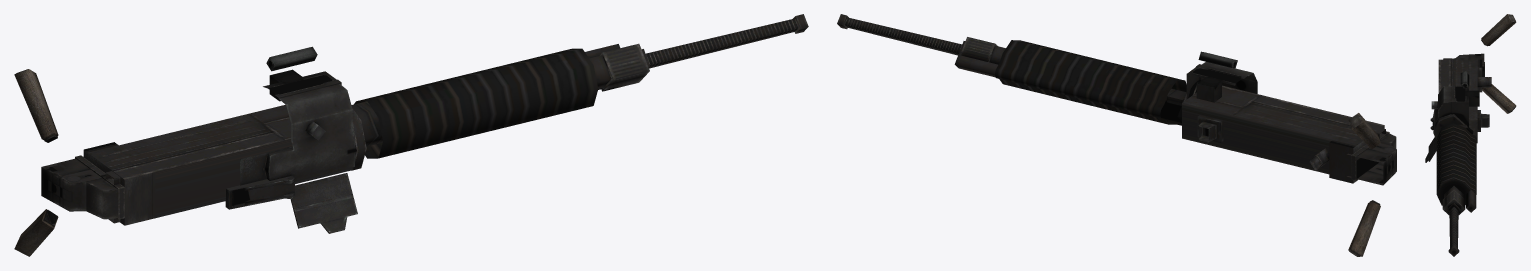
The model's file is weapon_jap_mg_type92_notripod_LOD31.obj.
The picture shows the model from 3 angles, left to right: view 1: azimuth 30°, elevation 25°; view 2: azimuth 150°, elevation 25°; view 3: azimuth 270°, elevation 25°; orthographic projection. The views are drawn at different scales.
Parts seen in each view (by area): view 1: TomGroup_0; view 2: TomGroup_0; view 3: TomGroup_0.
Boxes of the visible parts, <box> form: TomGroup_0: <box>14,14,808,256</box>; TomGroup_0: <box>837,14,1396,256</box>; TomGroup_0: <box>1425,14,1516,256</box>.
Bounding box in the file's own units: 117 × 28.64 × 23.65.
Materials: 1 (1 with a texture image).
